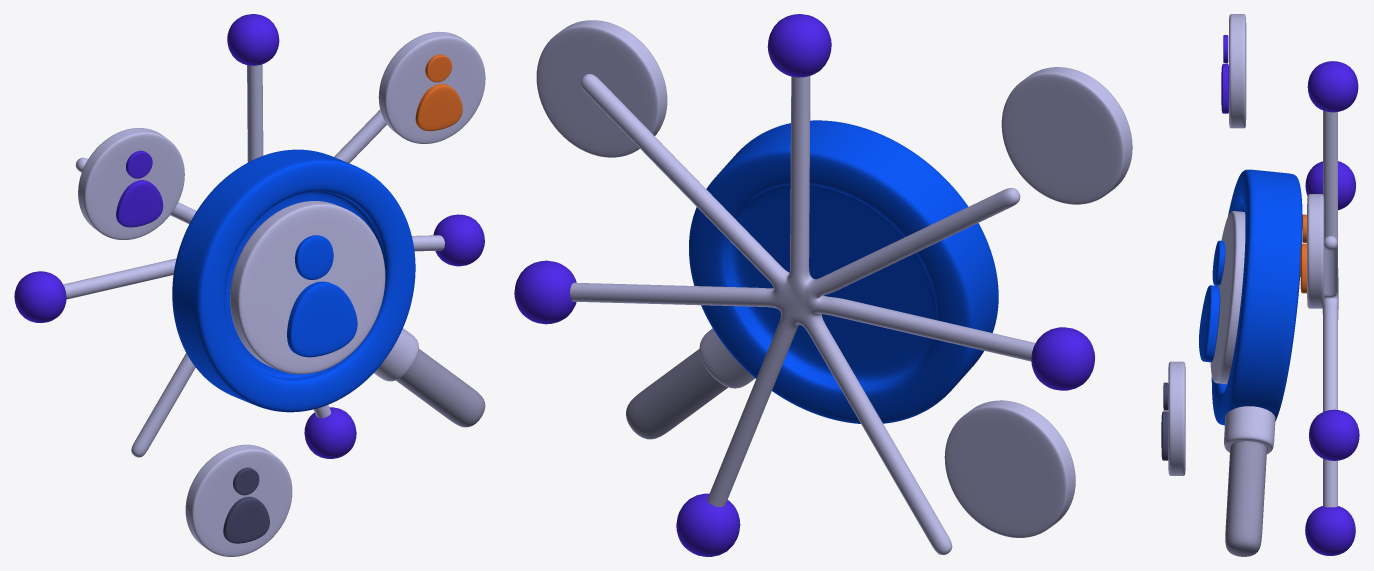
3 renders of one model, left to right at view 1: azimuth 30°, elevation 25°; view 2: azimuth 150°, elevation 25°; view 3: azimuth 270°, elevation 25°, orthographic. The views are drawn at different scales.
Parts seen in each view (by area): view 1: Cylinder.002, Cylinder.003, Vert.023, Cylinder.006, Cylinder.005, Cylinder.004, Cube.072, Cube.062, Cube.086, Cube.085, Cube.087, Cube.089 (+7 smaller); view 2: Cylinder.002, Vert.023, Cylinder.004, Cylinder.006, Cylinder.005, Cube.072, Cube.085, Cube.086, Cube.089, Cube.087; view 3: Cylinder.002, Cube.072, Vert.023, Cylinder.003, Cube.085, Cube.089, Cube.087, Cylinder.006, Cylinder.005, Cylinder.004, Cube.062, Cube.086 (+4 smaller).
Boxes of the visible parts, x1=… form: Cylinder.002: x1=172, y1=149, x2=415, y2=412; Cylinder.003: x1=230, y1=201, x2=385, y2=374; Vert.023: x1=63, y1=64, x2=444, y2=457; Cylinder.006: x1=185, y1=444, x2=292, y2=556; Cylinder.005: x1=378, y1=31, x2=485, y2=143; Cylinder.004: x1=78, y1=128, x2=184, y2=239; Cube.072: x1=374, y1=328, x2=485, y2=427; Cube.062: x1=287, y1=281, x2=357, y2=357; Cube.086: x1=14, y1=271, x2=66, y2=322; Cube.085: x1=227, y1=14, x2=279, y2=65; Cube.087: x1=304, y1=407, x2=356, y2=458; Cube.089: x1=433, y1=214, x2=484, y2=266; Cylinder.002: x1=689, y1=120, x2=998, y2=423; Vert.023: x1=570, y1=74, x2=1035, y2=554; Cylinder.004: x1=1001, y1=67, x2=1132, y2=204; Cylinder.006: x1=944, y1=400, x2=1075, y2=537; Cylinder.005: x1=536, y1=20, x2=667, y2=157; Cube.072: x1=626, y1=328, x2=755, y2=439; Cube.085: x1=767, y1=14, x2=831, y2=77; Cube.086: x1=1031, y1=327, x2=1094, y2=390; Cube.089: x1=514, y1=260, x2=576, y2=324; Cube.087: x1=676, y1=493, x2=740, y2=556; Cylinder.002: x1=1211, y1=169, x2=1302, y2=425; Cube.072: x1=1224, y1=406, x2=1275, y2=556; Vert.023: x1=1322, y1=110, x2=1338, y2=507; Cylinder.003: x1=1210, y1=211, x2=1245, y2=384; Cube.085: x1=1307, y1=61, x2=1358, y2=112; Cube.089: x1=1309, y1=409, x2=1359, y2=460; Cube.087: x1=1305, y1=506, x2=1355, y2=555; Cylinder.006: x1=1168, y1=361, x2=1185, y2=475; Cylinder.005: x1=1307, y1=194, x2=1324, y2=308; Cylinder.004: x1=1229, y1=14, x2=1246, y2=128; Cube.062: x1=1199, y1=285, x2=1220, y2=362; Cube.086: x1=1305, y1=161, x2=1355, y2=210.
Bounding box in the file's own units: 104 × 97.64 × 38.72.
